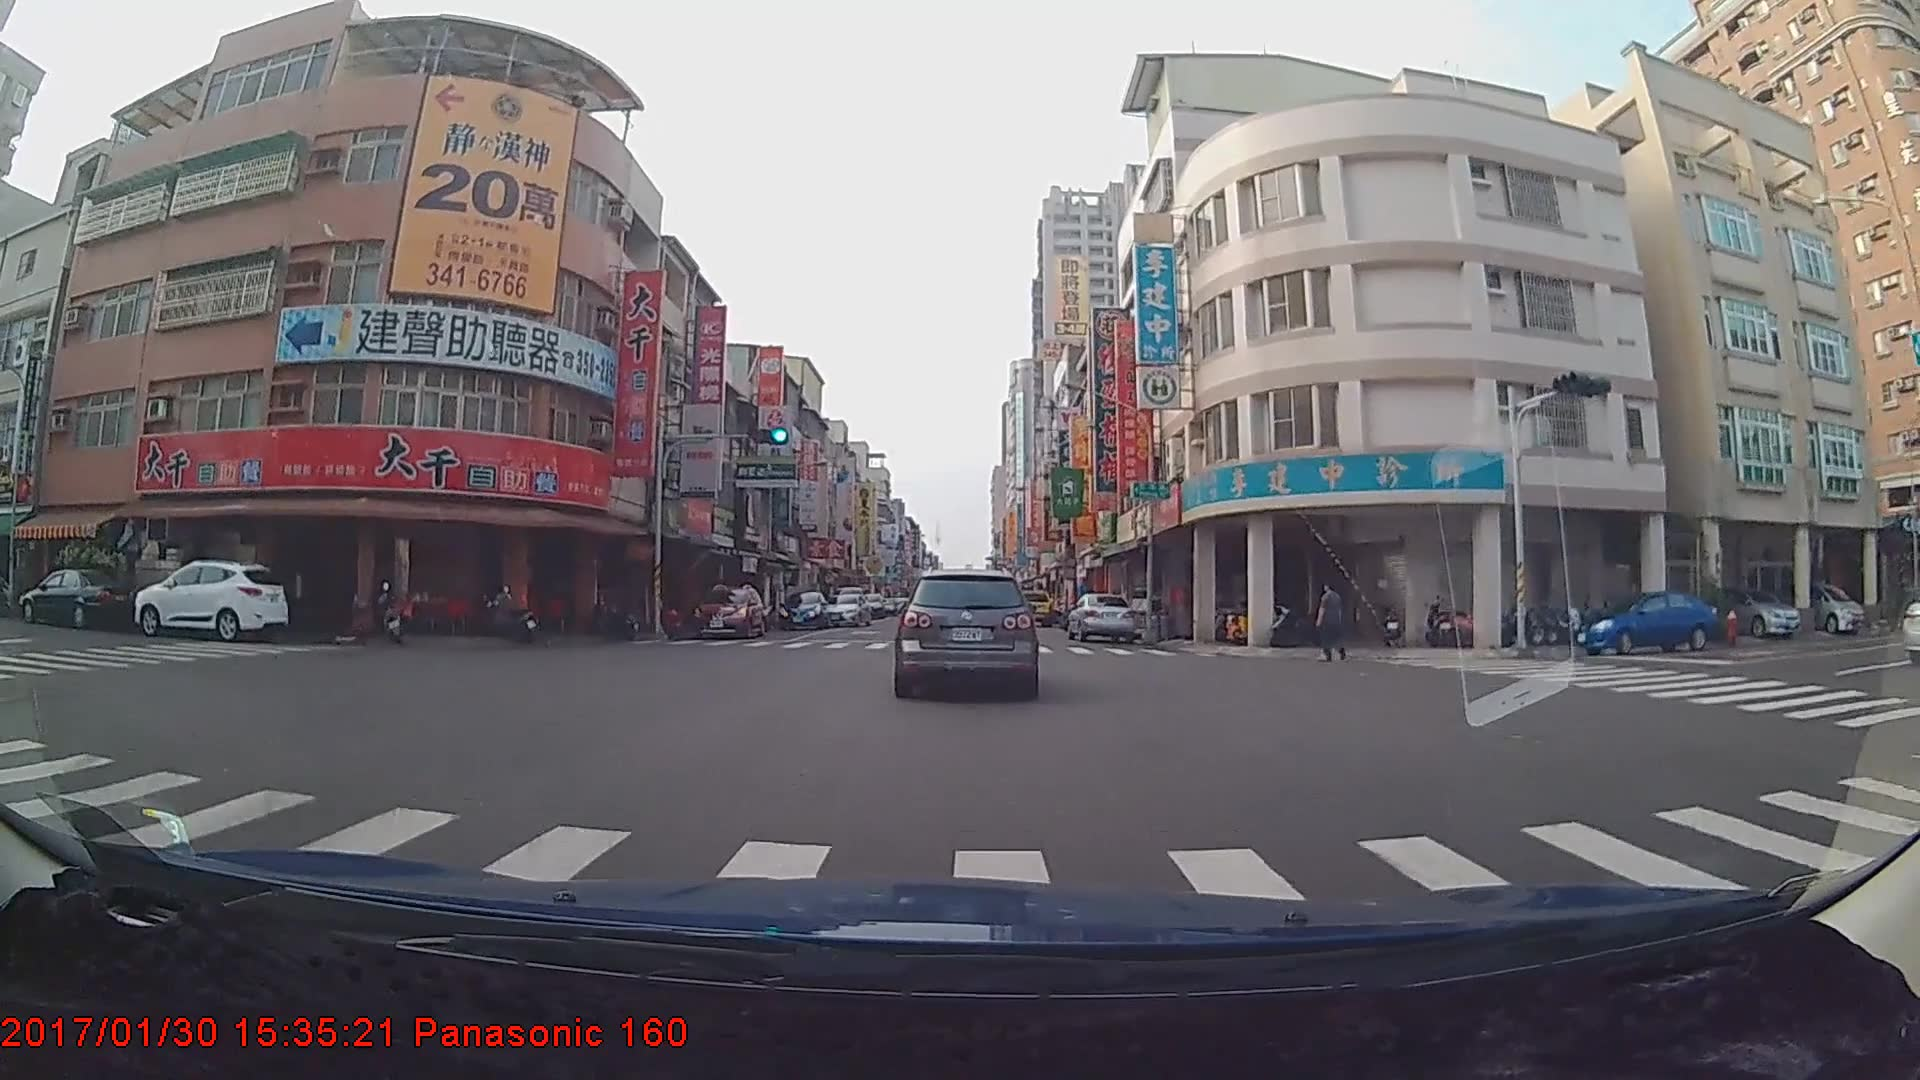pedestrian: (1314, 581, 1352, 665)
vehicle: (894, 564, 1038, 699), (131, 559, 285, 642), (1576, 591, 1718, 655), (15, 565, 139, 628), (1697, 581, 1807, 638), (1768, 577, 1867, 637), (687, 581, 764, 637), (1061, 589, 1135, 643), (777, 589, 832, 630), (817, 591, 871, 624), (1013, 587, 1053, 623)
